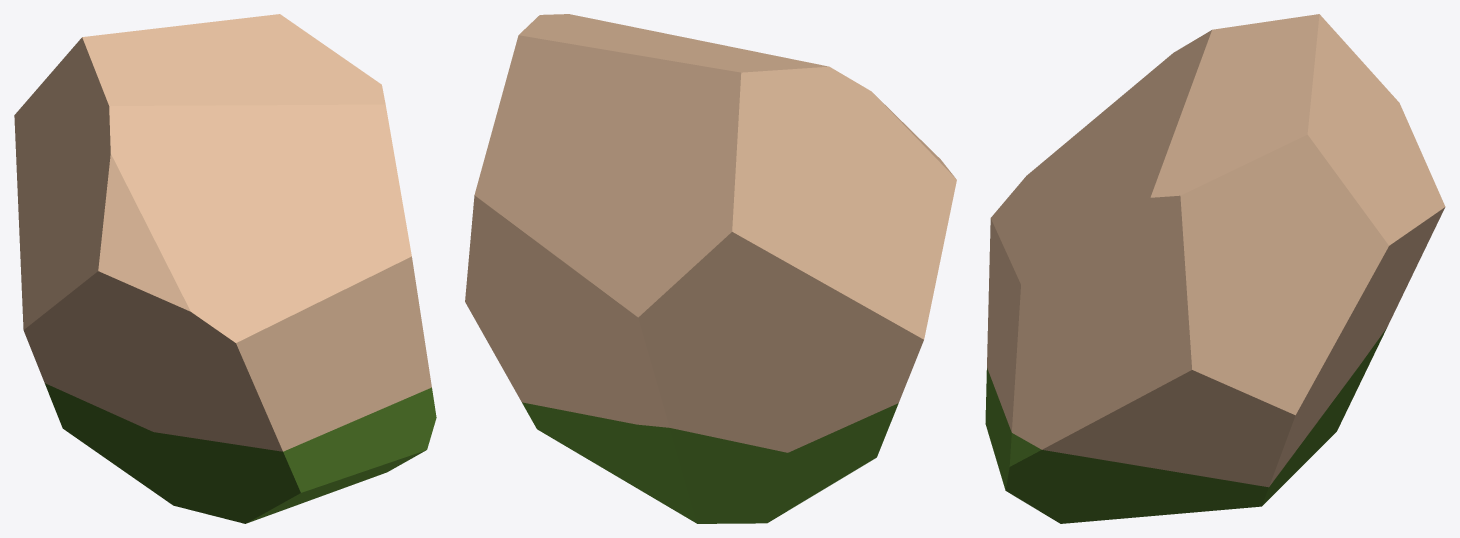
Rendered from Rock4.fbx.
3 renders of one model, left to right at view 1: azimuth 30°, elevation 25°; view 2: azimuth 150°, elevation 25°; view 3: azimuth 270°, elevation 25°, orthographic. The views are drawn at different scales.
Parts seen in each view (by area): view 1: Sphere.002; view 2: Sphere.002; view 3: Sphere.002.
Part boxes in pixels (left/top/right/bottom): Sphere.002: left=14, top=14, right=436, bottom=523; Sphere.002: left=465, top=14, right=956, bottom=523; Sphere.002: left=985, top=14, right=1445, bottom=523.
Size of the model in its own units: 164 by 175 by 168.
